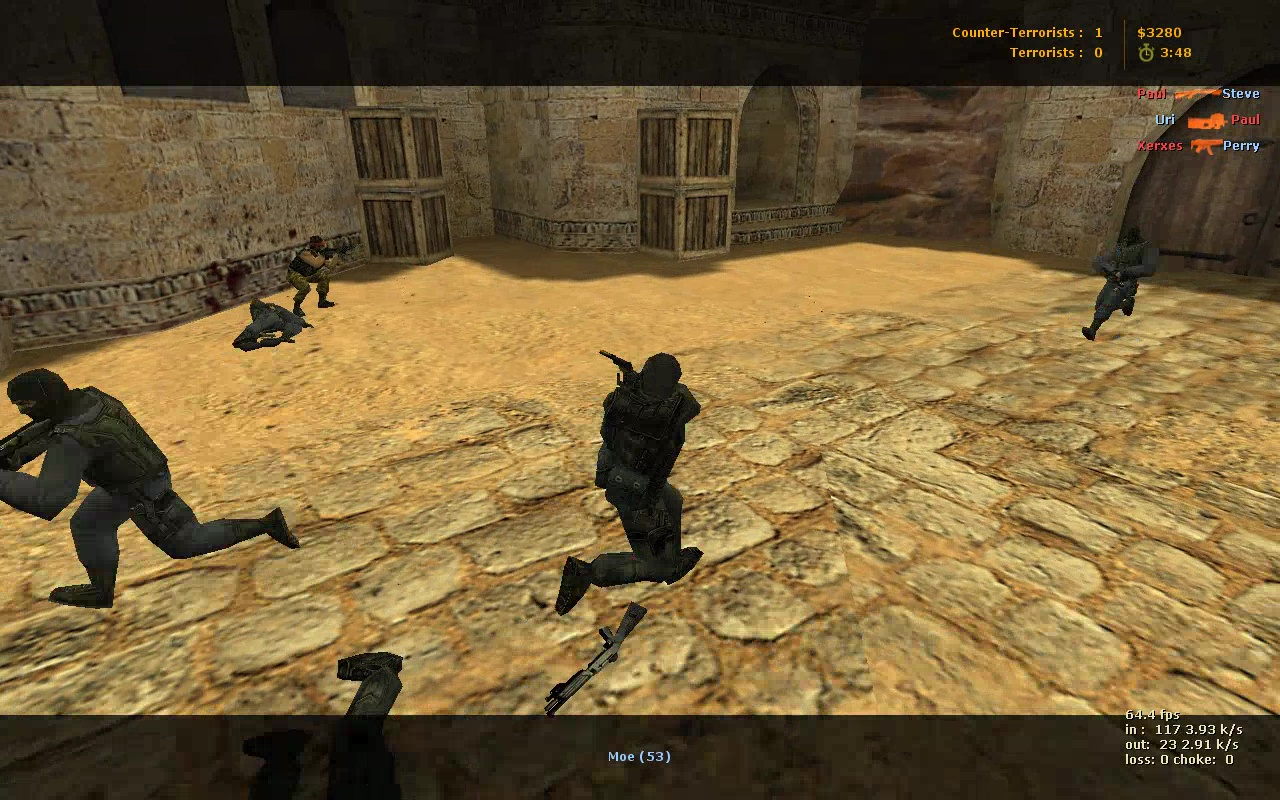ct: (1, 368, 303, 609), (552, 351, 704, 607), (1084, 225, 1165, 344)
dead: (238, 302, 306, 349)
terr1: (288, 234, 346, 315)
